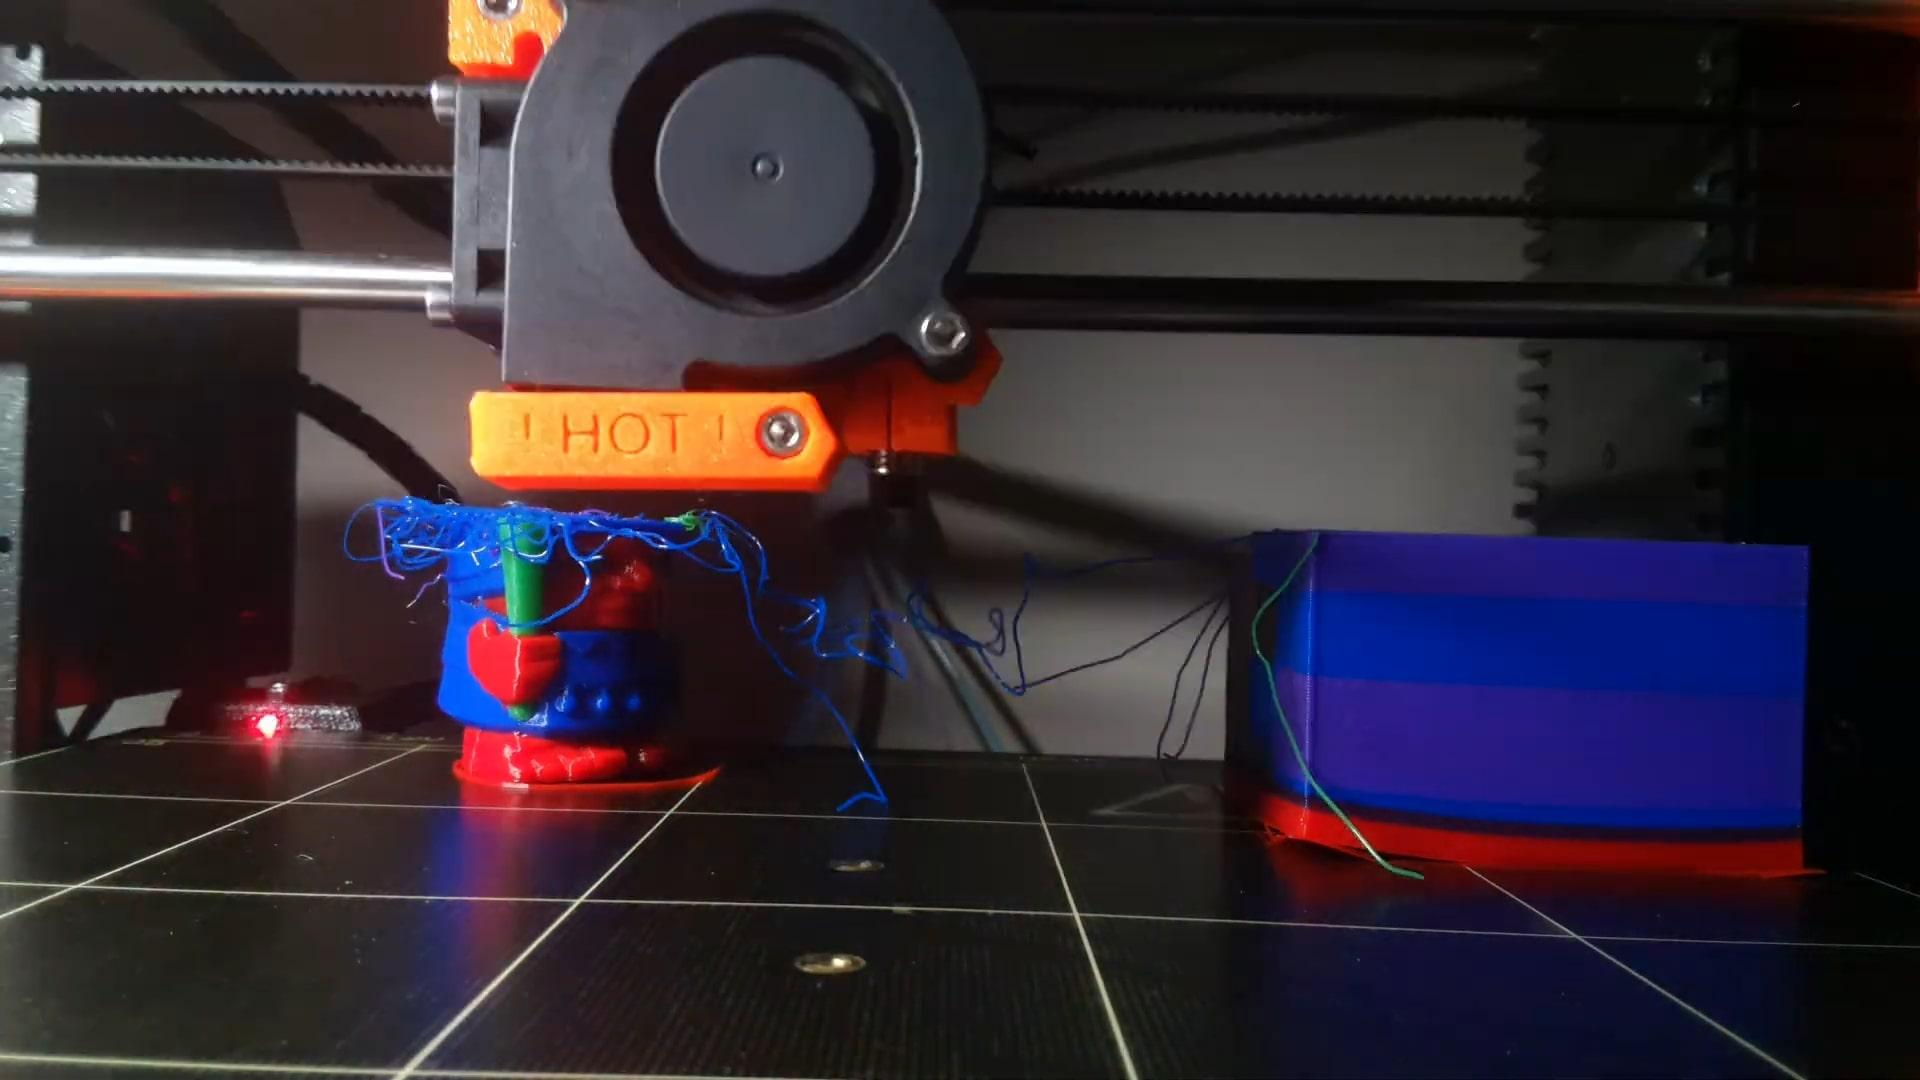Printing-Artifact: (328, 462, 773, 591)
